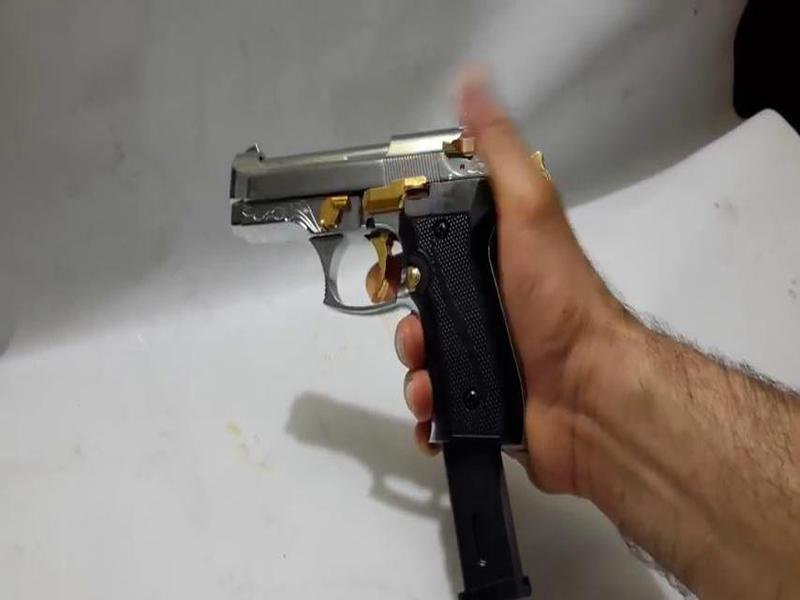Pistola: (222, 104, 546, 448)
